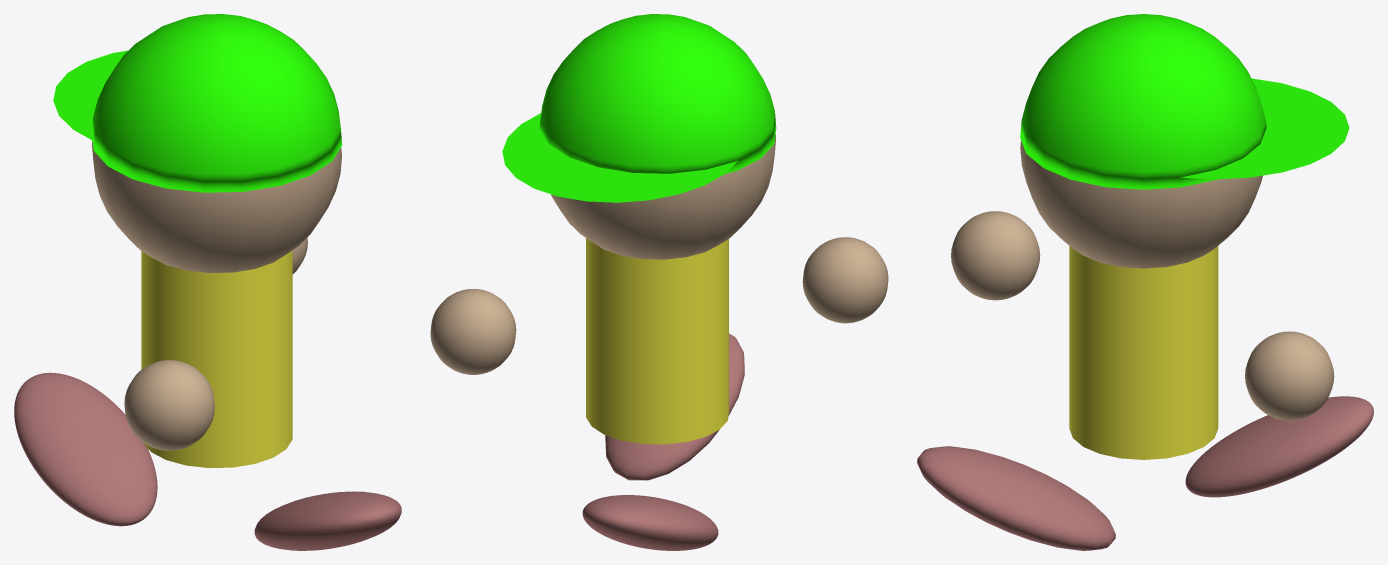
Rendered from Player2hidari.fbx.
3 renders of one model, left to right at view 1: azimuth 30°, elevation 25°; view 2: azimuth 150°, elevation 25°; view 3: azimuth 270°, elevation 25°, orthographic. The views are drawn at different scales.
Parts seen in each view (by area): view 1: pSphere7, pCylinder1, pSphere1, pSphere6, pSphere3, pSphere8, pDisc1; view 2: pSphere7, pCylinder1, pSphere1, pDisc1, pSphere8, pSphere2, pSphere6, pSphere3; view 3: pSphere7, pCylinder1, pSphere1, pSphere3, pSphere6, pDisc1, pSphere2, pSphere8.
Part boxes in pixels (x1,y1,x2,y2): pSphere7: (92,14,342,192); pCylinder1: (141,250,292,467); pSphere1: (92,141,341,272); pSphere6: (14,372,157,526); pSphere3: (254,491,401,550); pSphere8: (124,360,214,450); pDisc1: (53,50,128,141); pSphere7: (539,14,776,173); pCylinder1: (586,238,728,444); pSphere1: (551,134,775,259); pDisc1: (502,113,738,202); pSphere8: (802,237,888,323); pSphere2: (430,289,516,374); pSphere6: (582,495,718,550); pSphere3: (605,333,744,480); pSphere7: (1020,14,1266,189); pCylinder1: (1069,246,1218,459); pSphere1: (1020,140,1262,268); pSphere3: (917,446,1115,550); pSphere6: (1185,396,1373,497); pDisc1: (1179,78,1349,179); pSphere2: (1245,331,1334,420); pSphere8: (951,211,1040,300).
Bounding box in the file's own units: 0.7075 × 1.06 × 0.8869.
